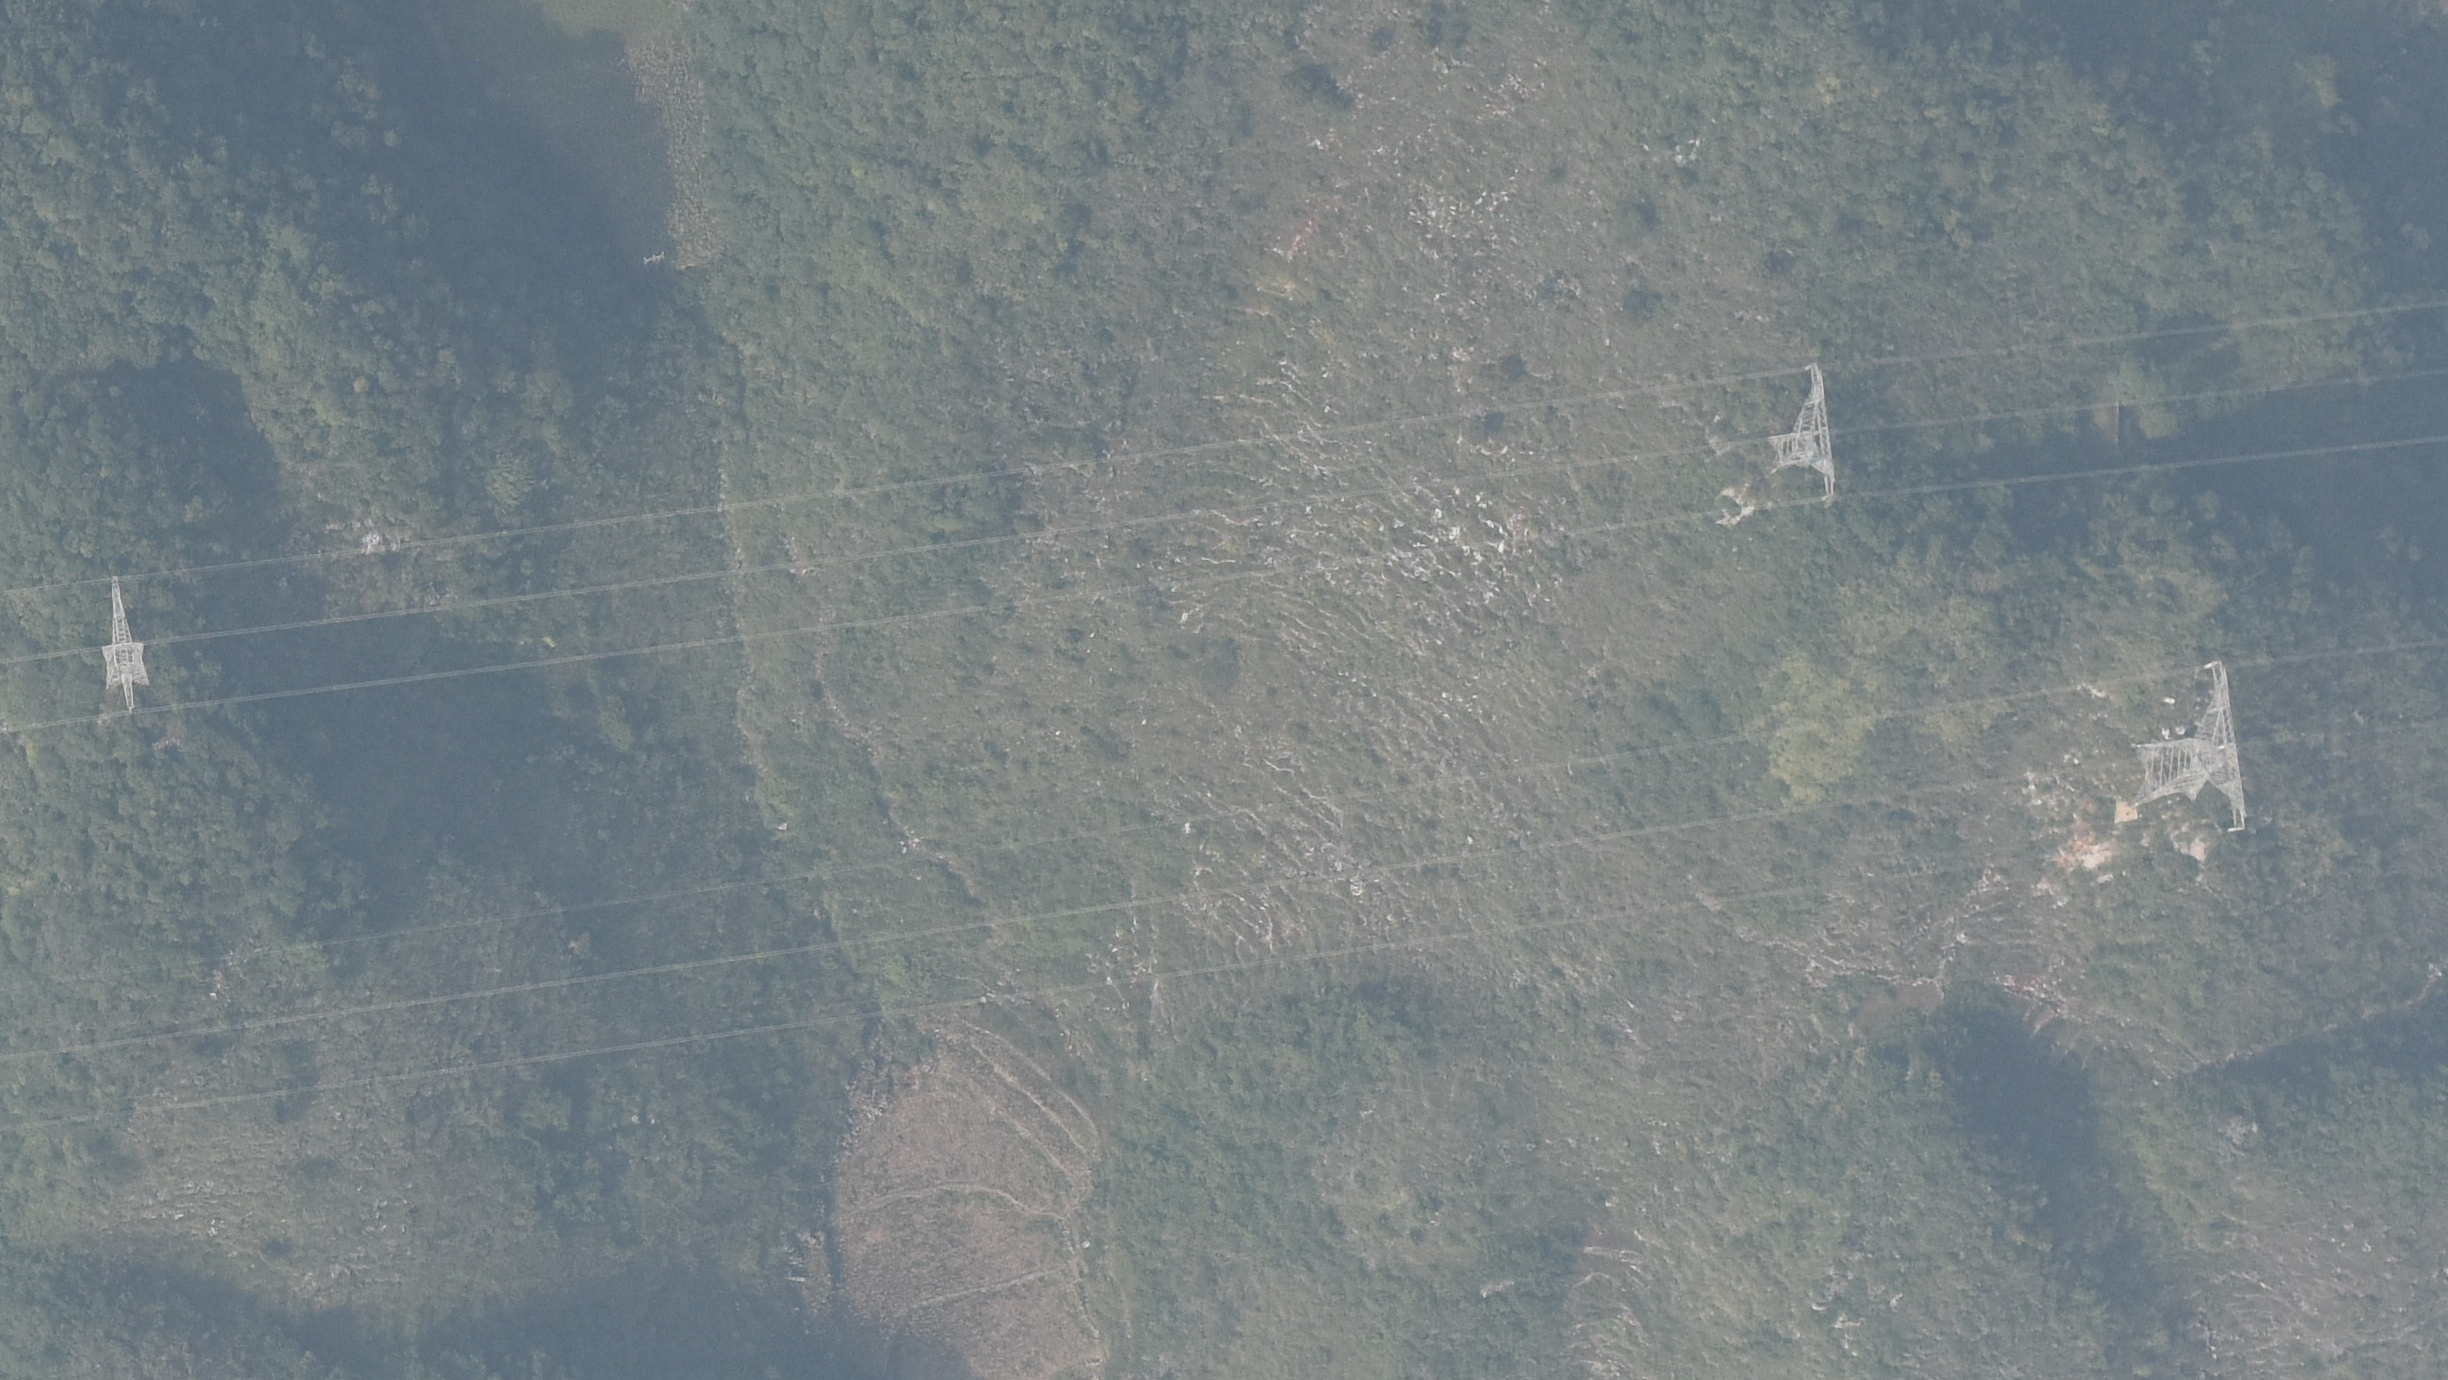cable-tower: (2129, 650, 2263, 851), (1755, 338, 1843, 529), (81, 565, 170, 731)
